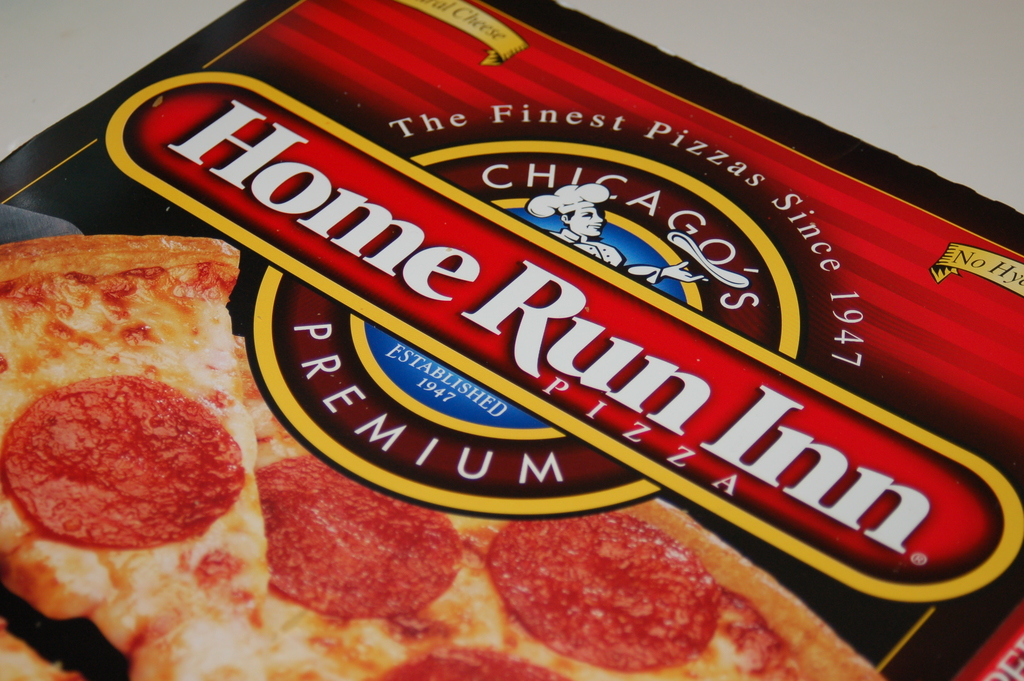Pizza: (216, 319, 864, 675), (0, 226, 251, 675)
